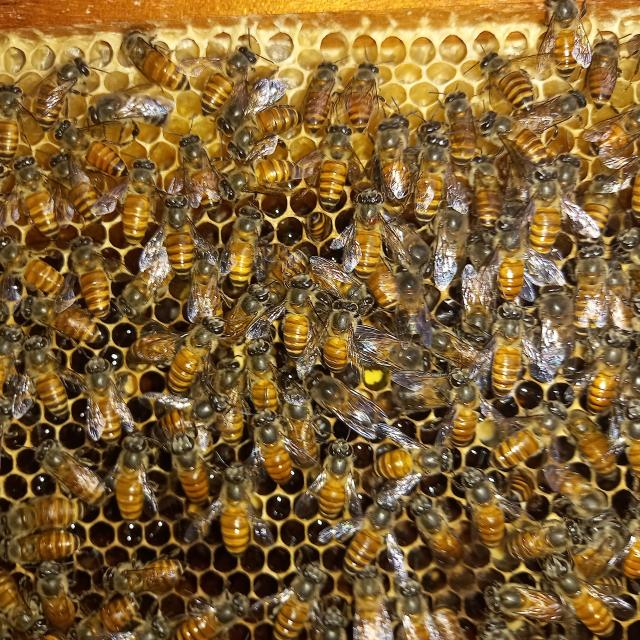honeybee: (515, 165, 603, 258), (368, 426, 464, 510), (32, 108, 132, 184), (323, 504, 408, 587), (142, 312, 232, 390), (467, 305, 548, 391), (482, 399, 566, 477), (455, 469, 528, 558), (551, 554, 626, 640), (301, 119, 371, 211), (212, 461, 267, 567), (35, 437, 115, 508), (68, 236, 130, 327), (118, 246, 182, 334), (306, 439, 373, 523), (22, 339, 86, 426), (294, 297, 362, 377), (436, 88, 496, 178), (218, 145, 309, 204), (75, 358, 134, 448), (563, 409, 626, 489), (436, 374, 498, 455), (223, 107, 313, 162), (100, 158, 162, 237), (412, 322, 488, 386), (571, 334, 640, 404), (28, 286, 101, 352), (577, 29, 635, 110), (8, 158, 66, 239), (342, 190, 396, 276), (263, 270, 315, 359), (477, 578, 561, 633), (350, 326, 430, 382), (0, 244, 65, 312), (363, 111, 411, 202), (153, 198, 204, 282), (168, 136, 227, 207), (156, 393, 234, 446), (218, 208, 271, 285), (124, 32, 194, 90), (491, 218, 538, 304), (570, 246, 619, 328), (213, 71, 284, 127), (537, 1, 589, 76), (488, 111, 556, 168), (1, 527, 88, 571), (76, 593, 157, 640), (188, 241, 234, 323), (50, 148, 99, 224), (459, 154, 506, 233), (270, 560, 316, 640), (477, 50, 535, 113), (87, 95, 185, 132), (27, 61, 88, 119), (194, 40, 243, 112), (6, 486, 84, 531), (374, 203, 424, 273), (280, 382, 320, 469), (412, 497, 461, 568), (270, 241, 332, 297), (116, 435, 156, 521), (510, 92, 595, 132), (171, 422, 214, 501), (500, 517, 579, 560), (211, 354, 250, 440), (311, 300, 355, 375), (408, 130, 444, 221), (598, 244, 640, 320), (253, 420, 302, 485), (32, 563, 76, 635), (159, 602, 242, 640), (538, 283, 579, 359), (456, 268, 496, 345), (432, 206, 468, 288), (311, 259, 369, 309), (243, 334, 277, 418), (300, 64, 340, 133), (103, 562, 184, 596), (581, 167, 622, 234), (585, 110, 640, 158), (398, 277, 433, 352), (388, 583, 432, 640), (223, 274, 260, 341), (350, 573, 384, 640), (0, 578, 39, 636), (364, 270, 409, 318), (0, 319, 26, 402), (345, 65, 377, 132), (550, 148, 586, 192), (2, 86, 18, 180), (624, 513, 640, 596), (424, 610, 468, 640), (298, 210, 332, 240)
